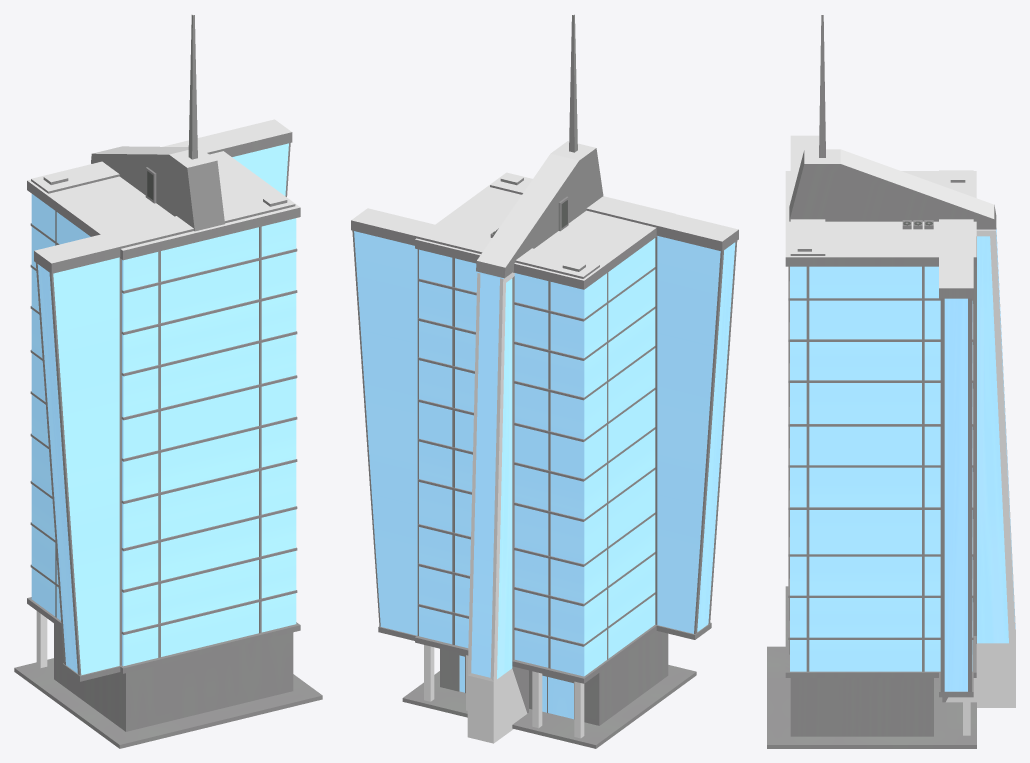
Rendered from tile_for_home_2x2.005 (5).glb.
3 renders of one model, left to right at view 1: azimuth 30°, elevation 25°; view 2: azimuth 150°, elevation 25°; view 3: azimuth 270°, elevation 25°, orthographic. The views are drawn at different scales.
Parts seen in each view (by area): view 1: business centers.006; view 2: business centers.006; view 3: business centers.006.
Boxes of the visible parts, x1,y1,x2,y2 form: business centers.006: [14, 15, 322, 748]; business centers.006: [351, 14, 738, 748]; business centers.006: [767, 15, 1015, 748].
Bounding box in the file's own units: 22.42 × 46.98 × 15.41.
1 material, 1 textured.
